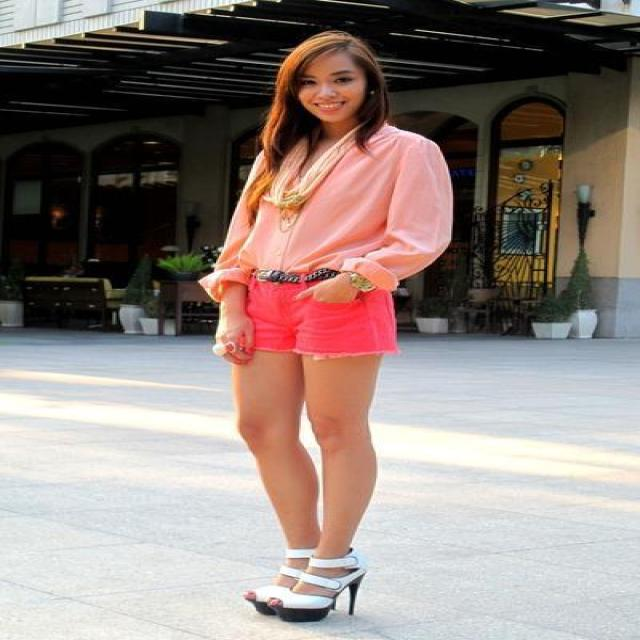shirt: (198, 123, 452, 319)
shoe: (266, 544, 374, 621)
shorts: (251, 282, 395, 354)
